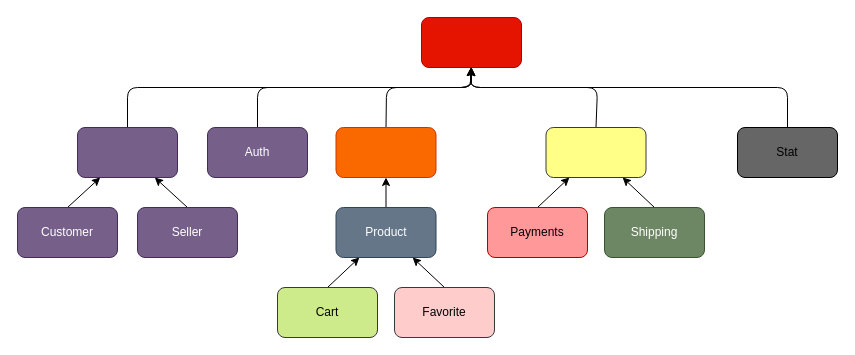
The diagram is 855 pixels wide and 355 high, and some of its shapes have lost their labels. Here are the shapes that lost their labels. From the top down, the centre of each, then its label:
At point 471,42: "App".
At point 127,152: "User".
At point 385,152: "Category".
At point 595,152: "Order".
